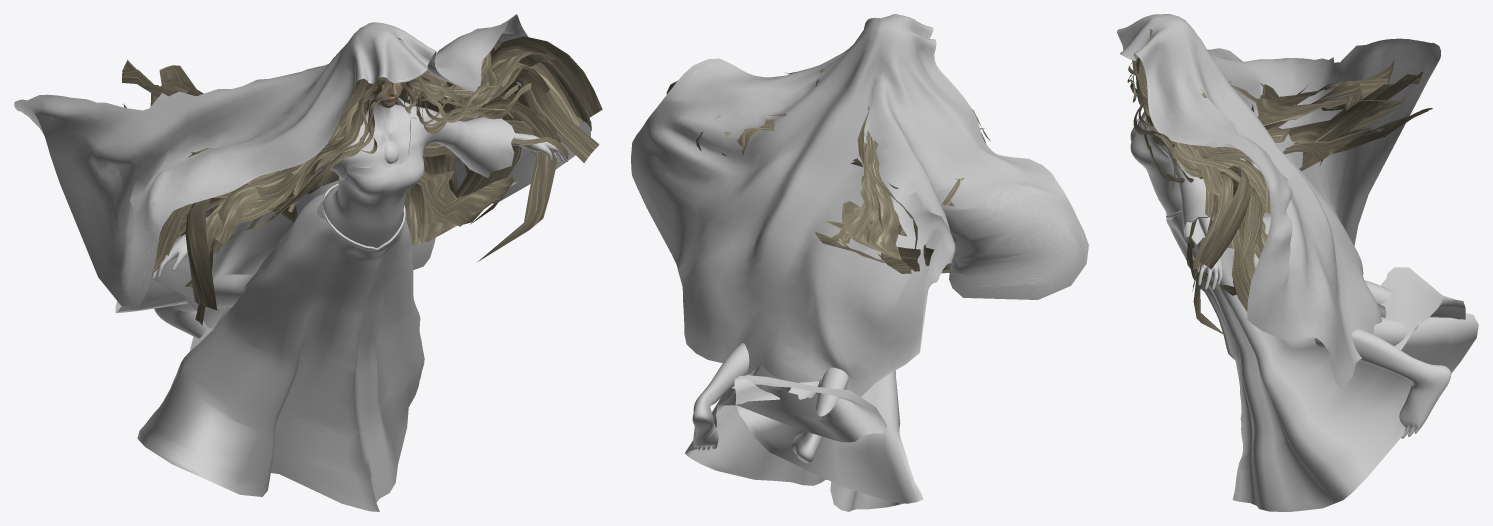
The model's file is Shot_3.fbx.
The picture shows the model from 3 angles, left to right: view 1: azimuth 30°, elevation 25°; view 2: azimuth 150°, elevation 25°; view 3: azimuth 270°, elevation 25°; orthographic projection. The views are drawn at different scales.
Parts seen in each view (by area): view 1: Skirt_low, Veil_low, Hair_low, Top_low, Body_low; view 2: Veil_low, Skirt_low, Hair_low, Body_low; view 3: Veil_low, Skirt_low, Hair_low, Body_low, Top_low.
Boxes of the visible parts, x1,y1,x2,y2 form: Skirt_low: [115, 193, 424, 511]; Veil_low: [14, 14, 590, 329]; Hair_low: [122, 36, 602, 324]; Top_low: [321, 98, 515, 247]; Body_low: [152, 98, 567, 338]; Veil_low: [631, 14, 1088, 396]; Skirt_low: [685, 365, 923, 511]; Hair_low: [666, 67, 990, 273]; Body_low: [692, 343, 848, 463]; Veil_low: [1117, 14, 1440, 386]; Skirt_low: [1166, 214, 1478, 511]; Hair_low: [1127, 29, 1432, 335]; Body_low: [1138, 111, 1451, 438]; Top_low: [1130, 116, 1208, 245].
Size of the model in its own units: 172 by 173 by 121.
